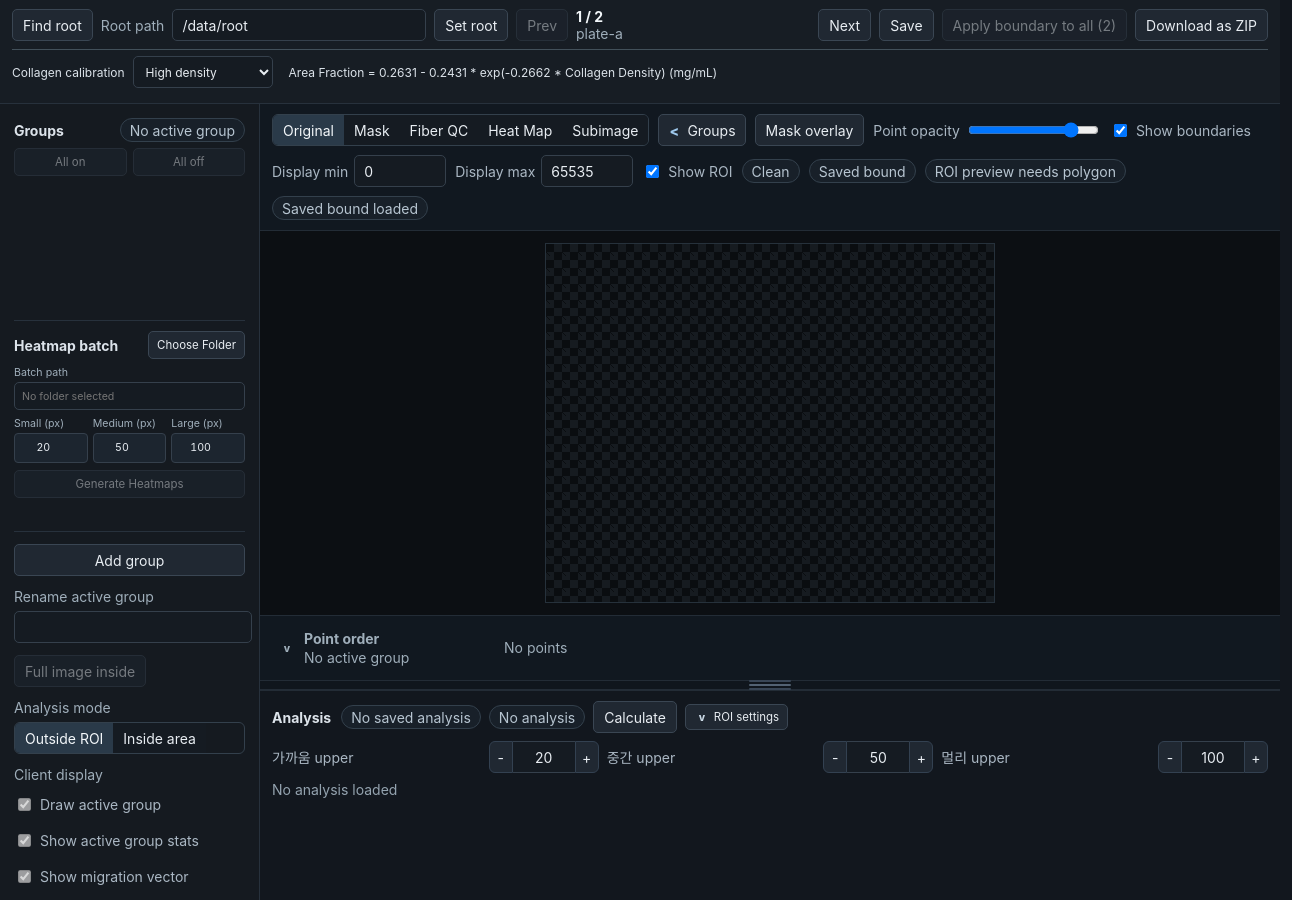
Test: App › resets a discarded new group's visibility when recreated using Add group
Click the button "Add group": (130, 560) [14, 544, 245, 576]
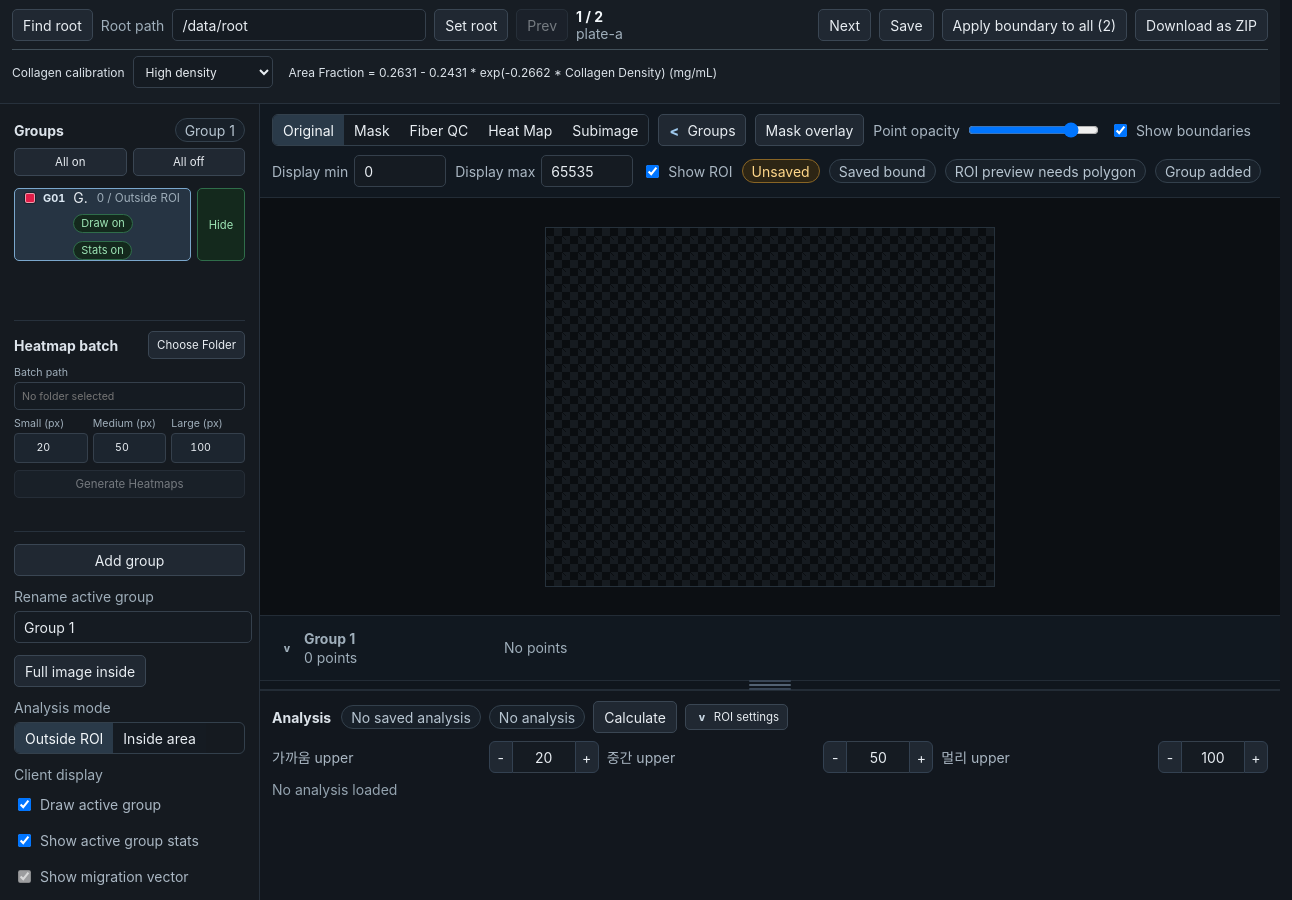
Click the button with aria-label "Hide Group 1 display": (221, 225) [197, 188, 245, 261]
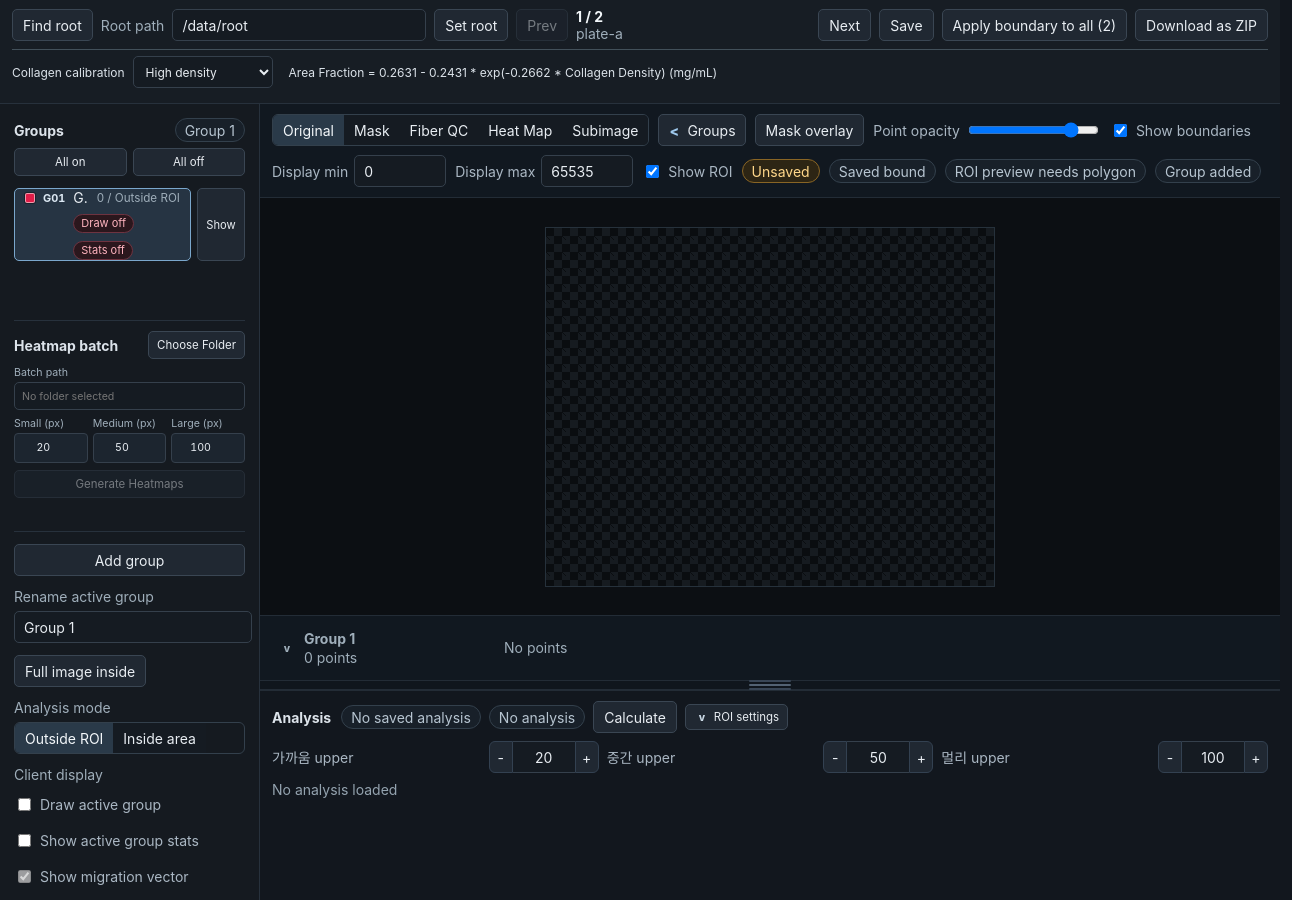
Click the button with aria-label "Next image": (845, 25) [818, 9, 871, 41]
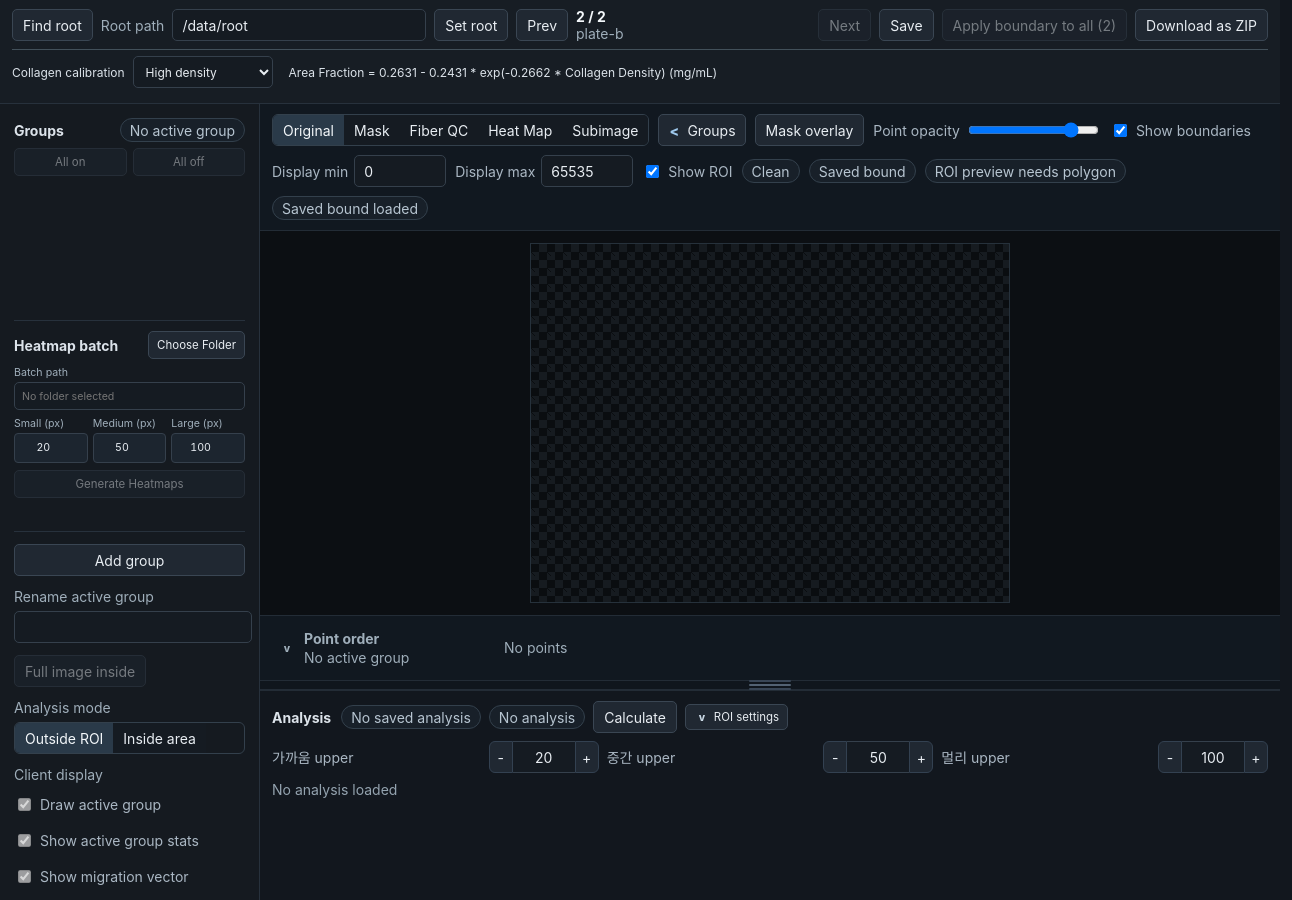
Expected: the text "Group 1" is gone
Click the button with aria-label "Previous image": (542, 25) [516, 9, 568, 41]
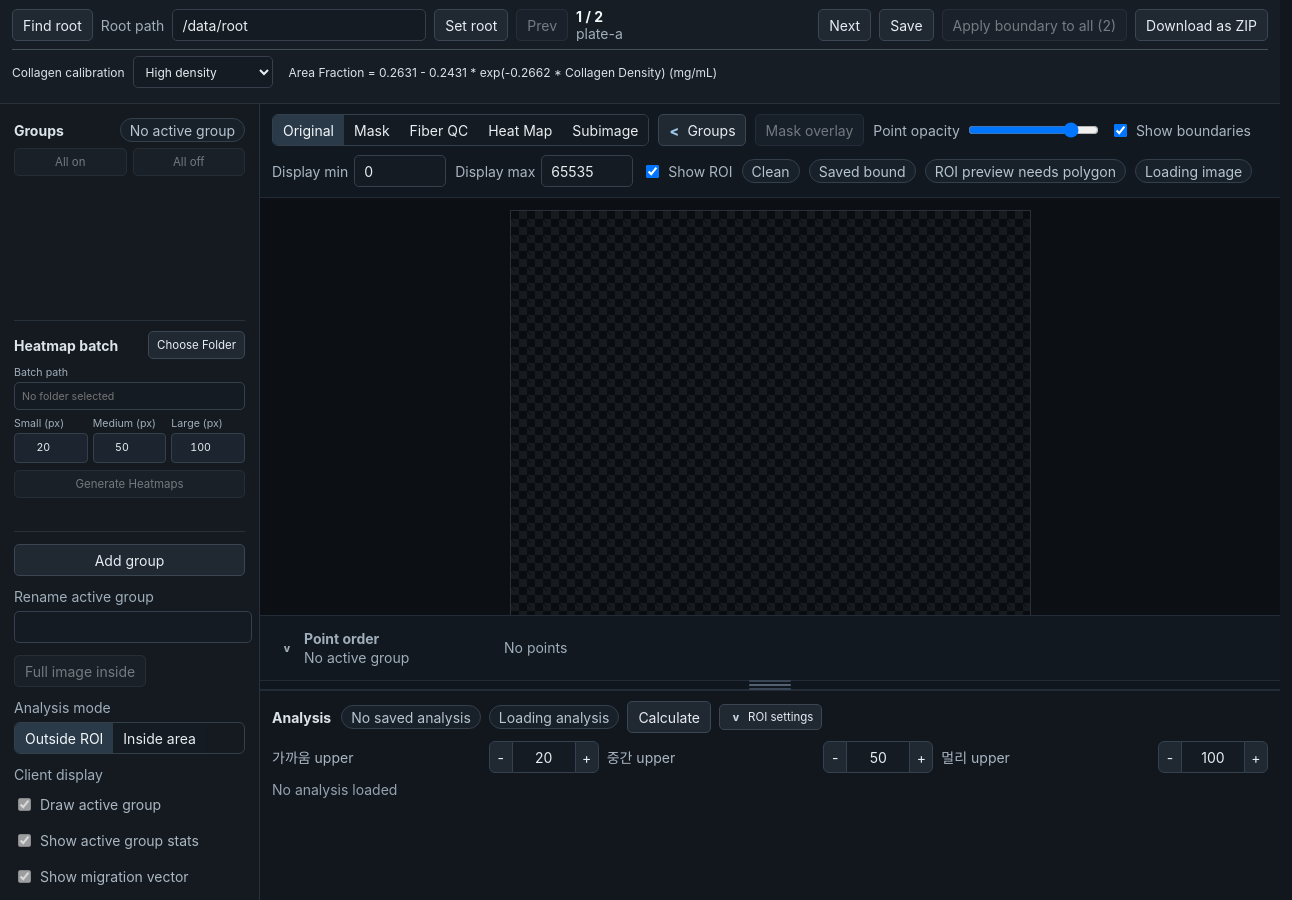
Expected: the button with aria-label "Previous image" is disabled, [516, 9, 568, 41]
Click the button "Add group": (130, 560) [14, 544, 245, 576]
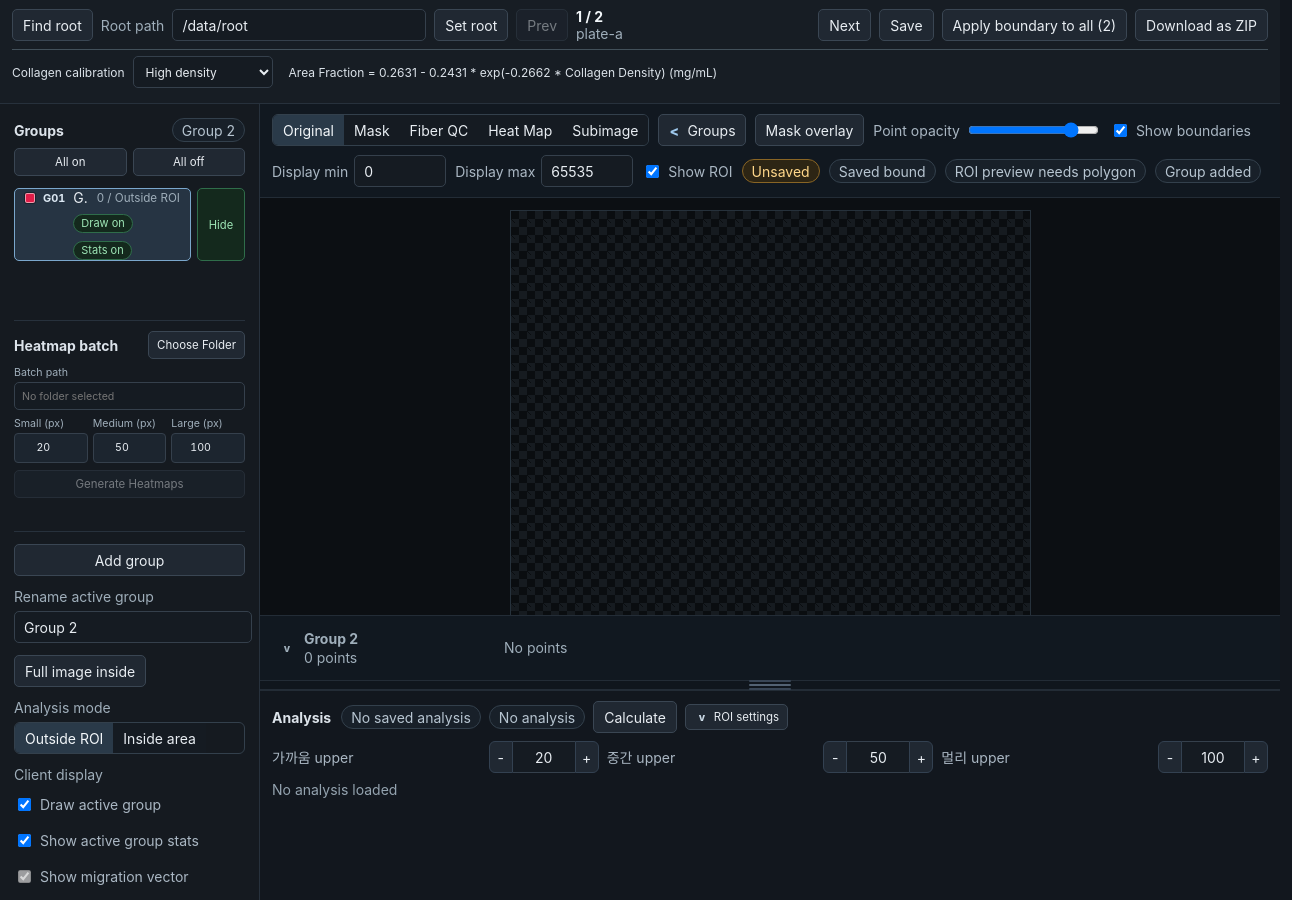
Expected: the button with aria-label "Hide Group 2 display" is shown, [197, 188, 245, 261]
